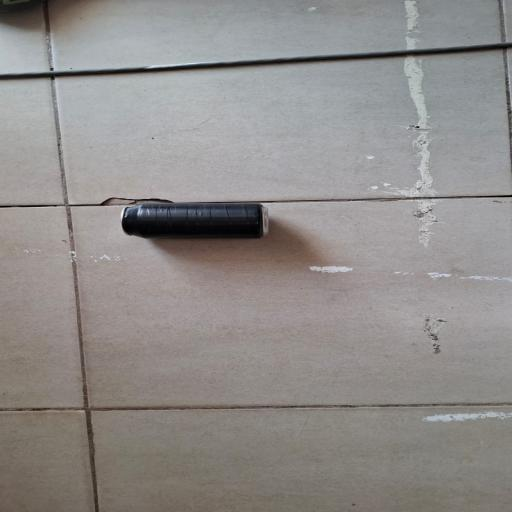LATA: (106, 202, 286, 242)
